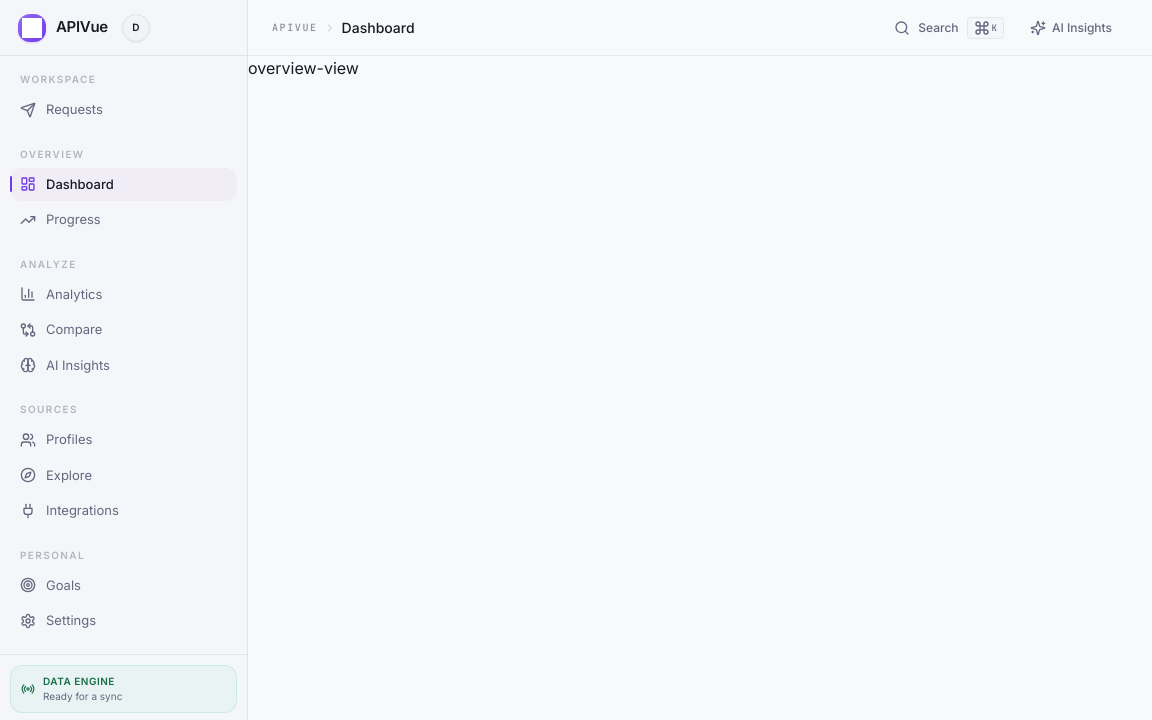
dashboard shell interactions › navigates to the chosen page and closes the palette
Press k
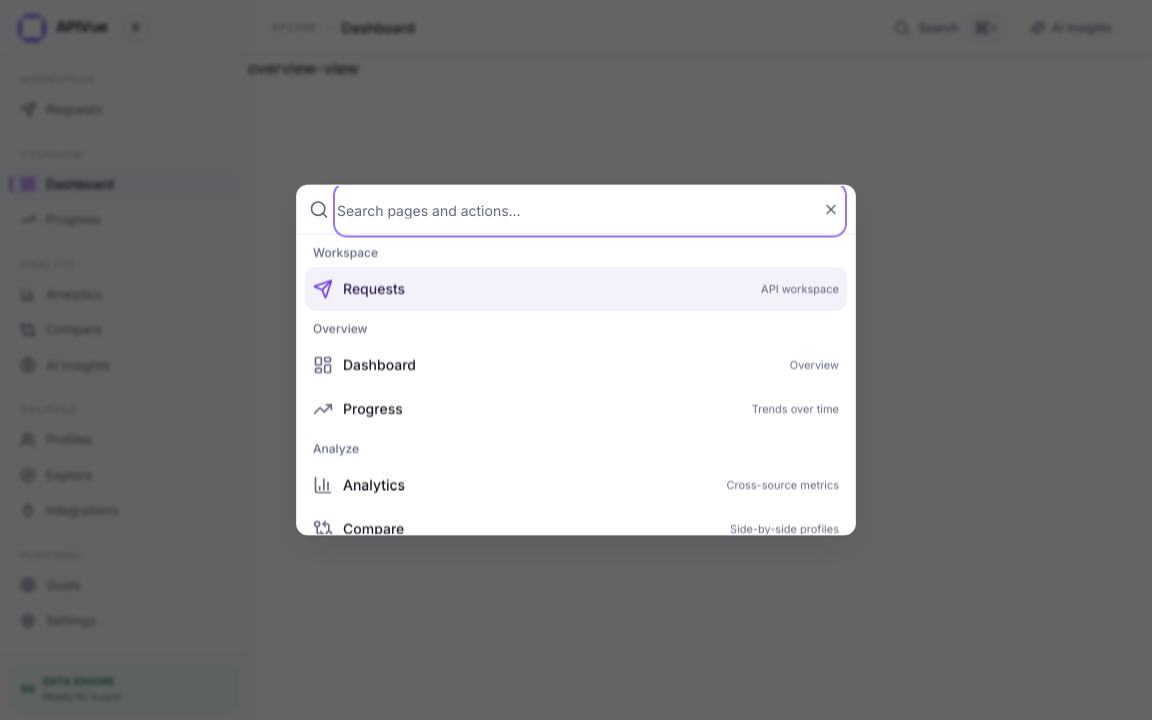
Check: the dialog is shown, box left=296, top=184, right=856, bottom=536
In the dropdown named "Command palette search": (590, 210) left=337, top=186, right=843, bottom=234, type "goals"
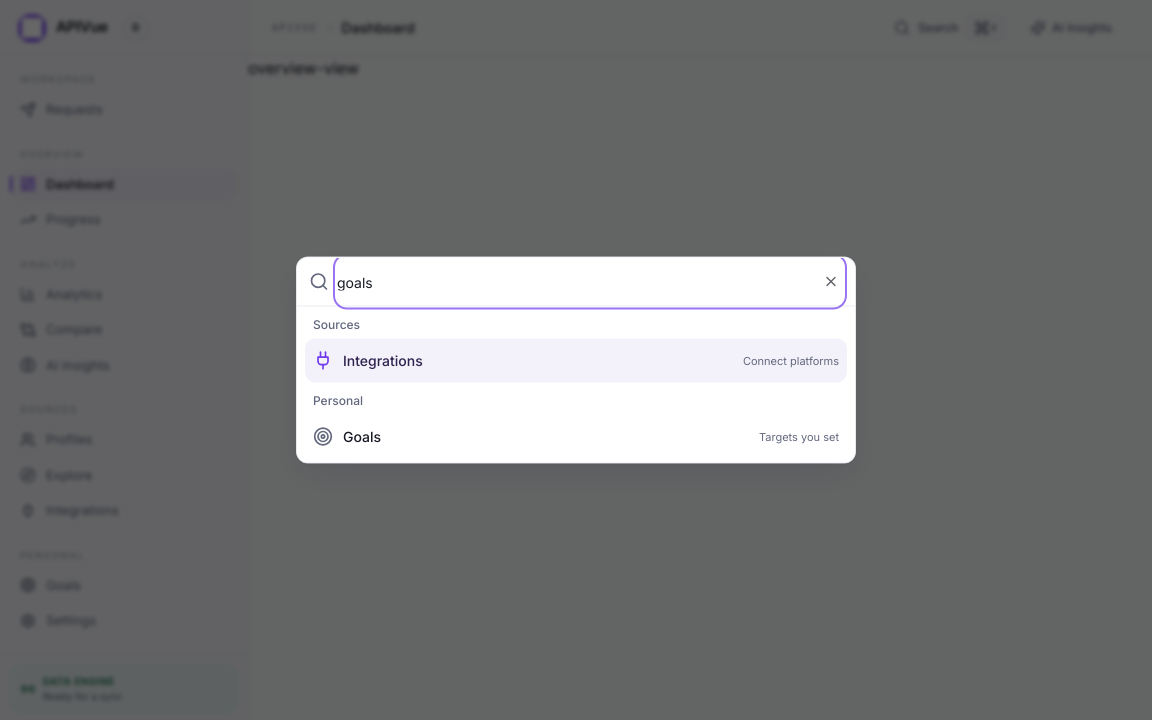
Click the option "Goals Targets you set": (362, 436) left=313, top=426, right=839, bottom=446
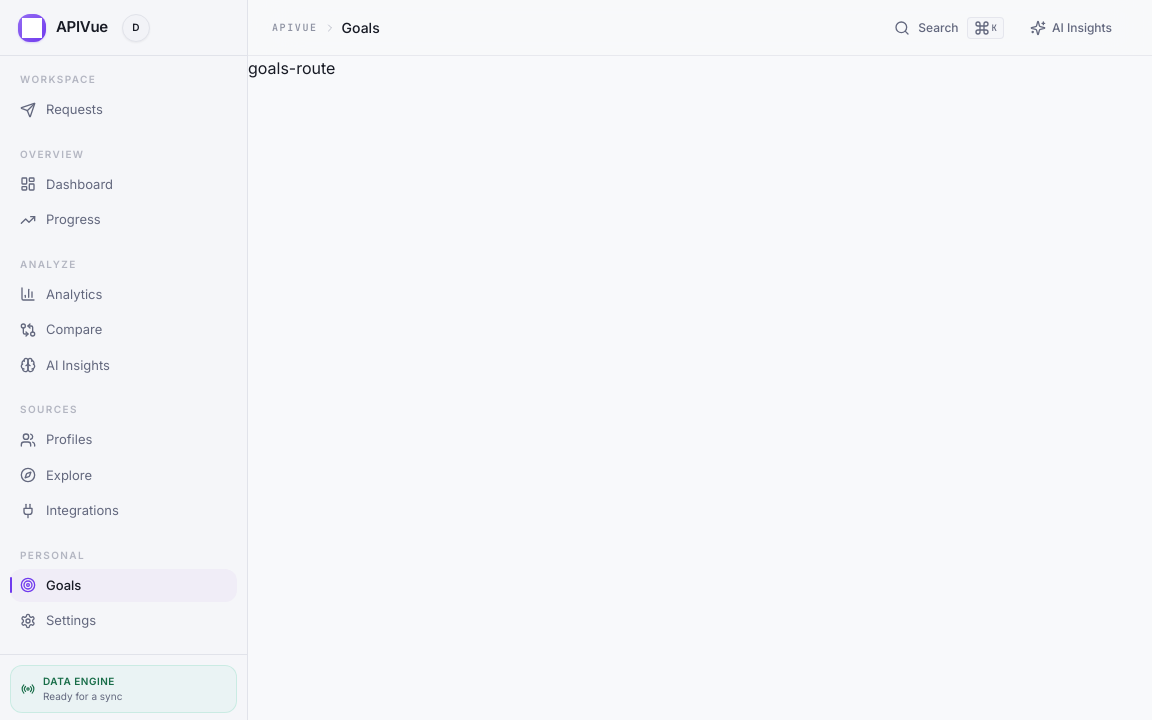
Check: the text "goals-route" is shown, box left=248, top=58, right=336, bottom=78
Check: the dialog is gone
